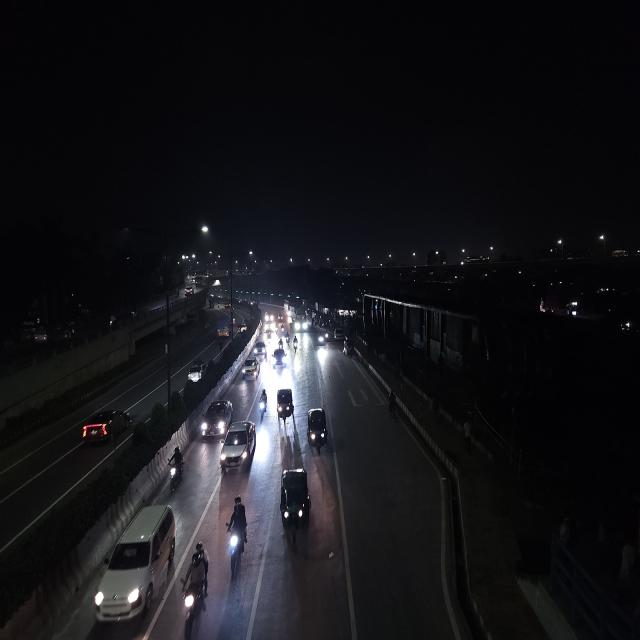bicycle: (384, 388, 397, 427)
bus: (293, 306, 310, 333)
car: (91, 500, 177, 627), (79, 402, 133, 448), (218, 418, 258, 476), (200, 396, 234, 442), (186, 356, 208, 384), (272, 342, 288, 374), (242, 356, 260, 382), (253, 340, 268, 361), (333, 328, 344, 341)
cng: (277, 464, 313, 543), (306, 405, 330, 458), (275, 384, 296, 428), (342, 341, 354, 360)
motorcycle: (178, 537, 210, 638), (224, 492, 250, 579), (166, 444, 186, 496), (257, 385, 269, 423), (292, 332, 300, 354), (324, 328, 329, 342)
truck: (215, 312, 231, 342)
